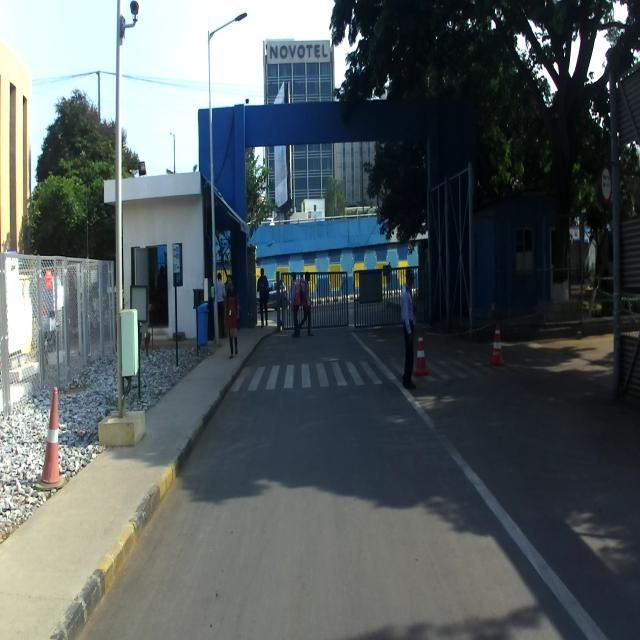barrier ahead at: (37, 384, 68, 497), (489, 318, 505, 364)
gate ahead at: (313, 270, 348, 328)
person ahead at: (396, 262, 417, 392), (218, 274, 243, 358)
zebra crossing ahead at: (227, 351, 393, 398)
